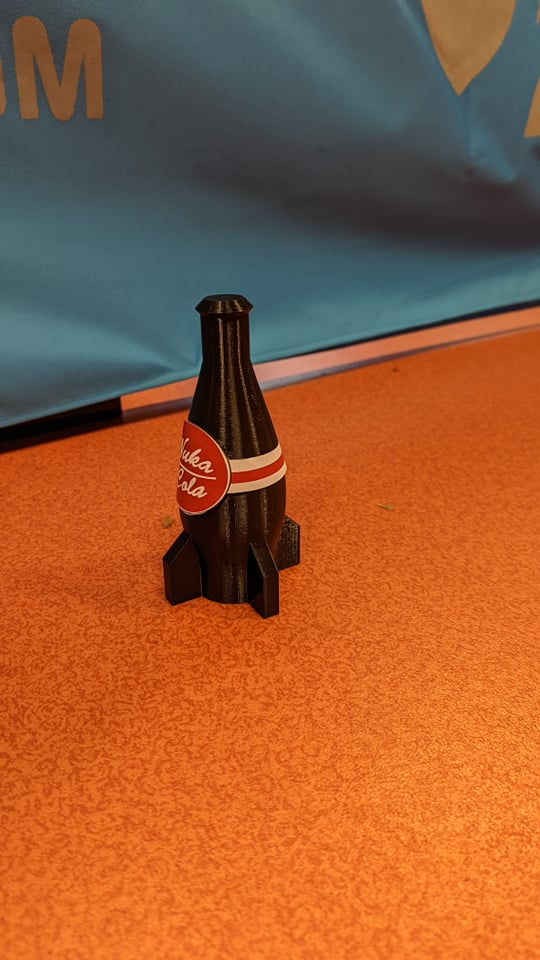bottle: (142, 288, 325, 644)
